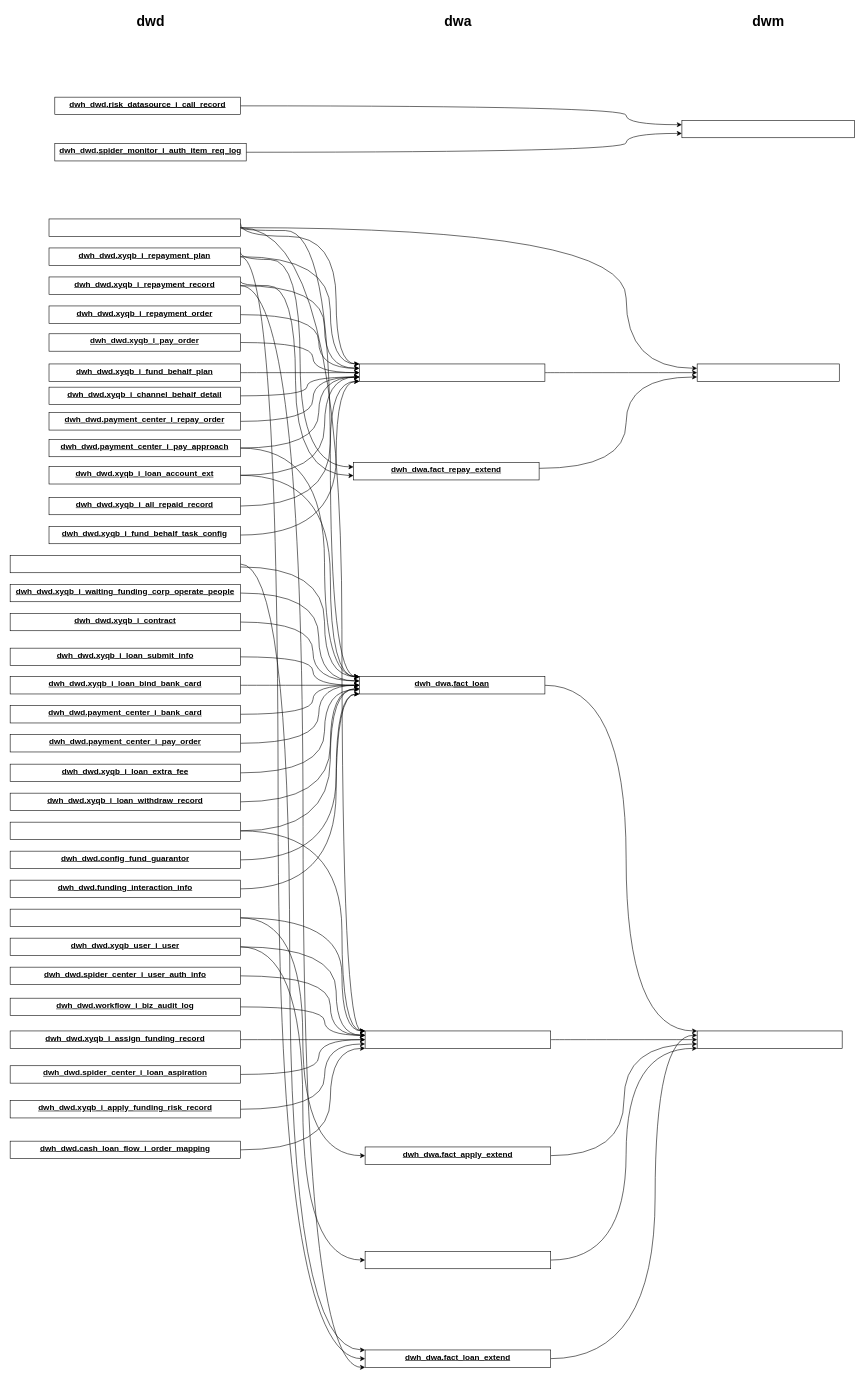
Image size: 865x1379. Some labels were removed from this diagram. Each missing label, with the box of its shape:
dwh_dwa.fact_apply: (365, 1030, 551, 1048)
dwh_dwa.fact_register: (365, 1251, 551, 1269)
dwh_dwa.fact_repay: (359, 363, 545, 381)
dwh_dwd. xyqb_i_apply_quota_record: (48, 218, 240, 236)
dwh_dwd.business_flow_i_apply_list: (10, 909, 240, 927)
dwh_dwd.xyqb_i_assets_order: (10, 822, 240, 840)
dwh_dwd.xyqb_i_loan_application_manifest_history: (10, 555, 240, 573)
dwh_dwm. cinst_settle_loan: (697, 1030, 842, 1048)
dwh_dwm. cinst_settle_repay: (697, 363, 839, 381)
dwh_dwm. settle_rc_call_record: (681, 120, 854, 138)
